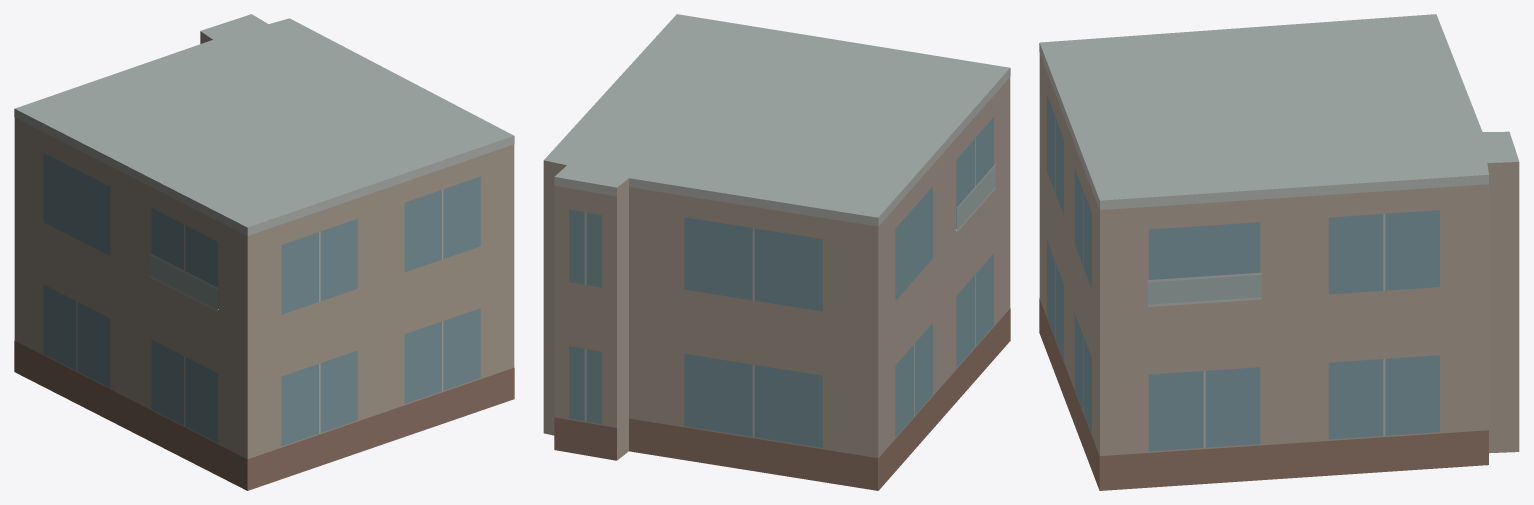
Rendered from survey-upis-32986252.glb.
The picture shows the model from 3 angles, left to right: view 1: azimuth 30°, elevation 25°; view 2: azimuth 150°, elevation 25°; view 3: azimuth 270°, elevation 25°; orthographic projection. The views are drawn at different scales.
Parts seen in each view (by area): view 1: survey-upis-32986252.tmp; view 2: survey-upis-32986252.tmp; view 3: survey-upis-32986252.tmp.
Boxes of the visible parts, x1=… form: survey-upis-32986252.tmp: x1=14, y1=14, x2=514, y2=490; survey-upis-32986252.tmp: x1=543, y1=14, x2=1010, y2=490; survey-upis-32986252.tmp: x1=1039, y1=14, x2=1519, y2=490.
Size of the model in its own units: 10.36 by 7.5 by 11.25.
